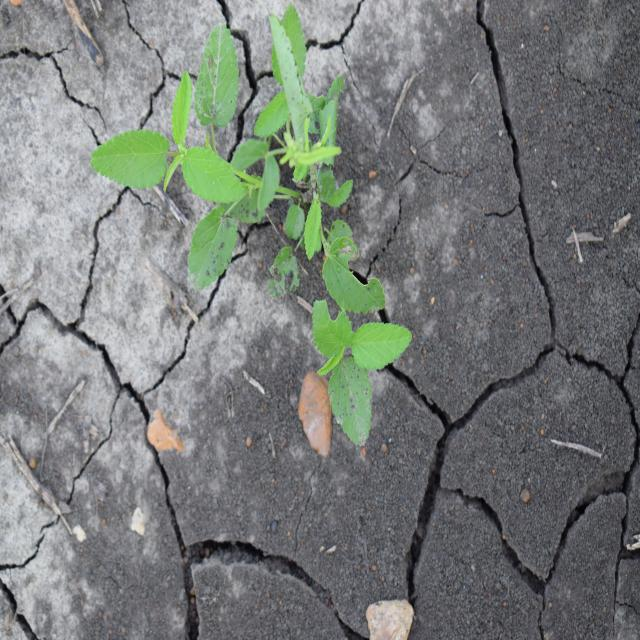PricklySida: (90, 2, 414, 448)
